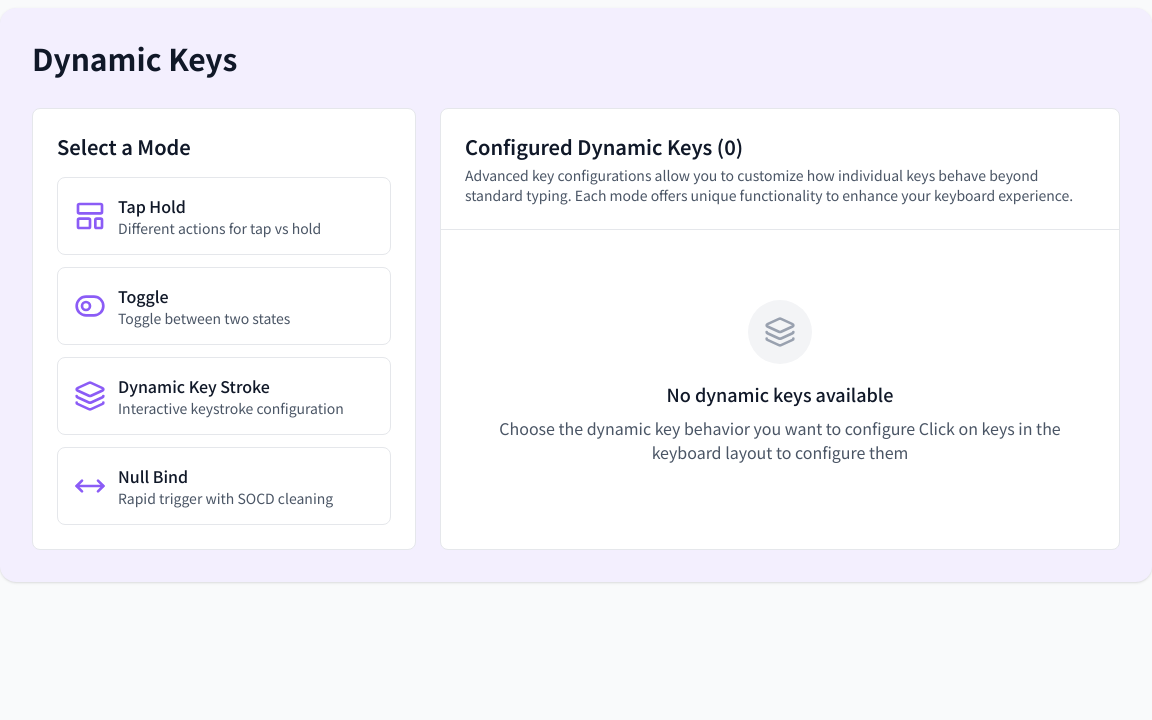
Test case: Tap-hold editor › asks for a key until one is selected
Click the button "Tap Hold Different actions for tap vs hold" at (224, 216), box [57,177,391,255]
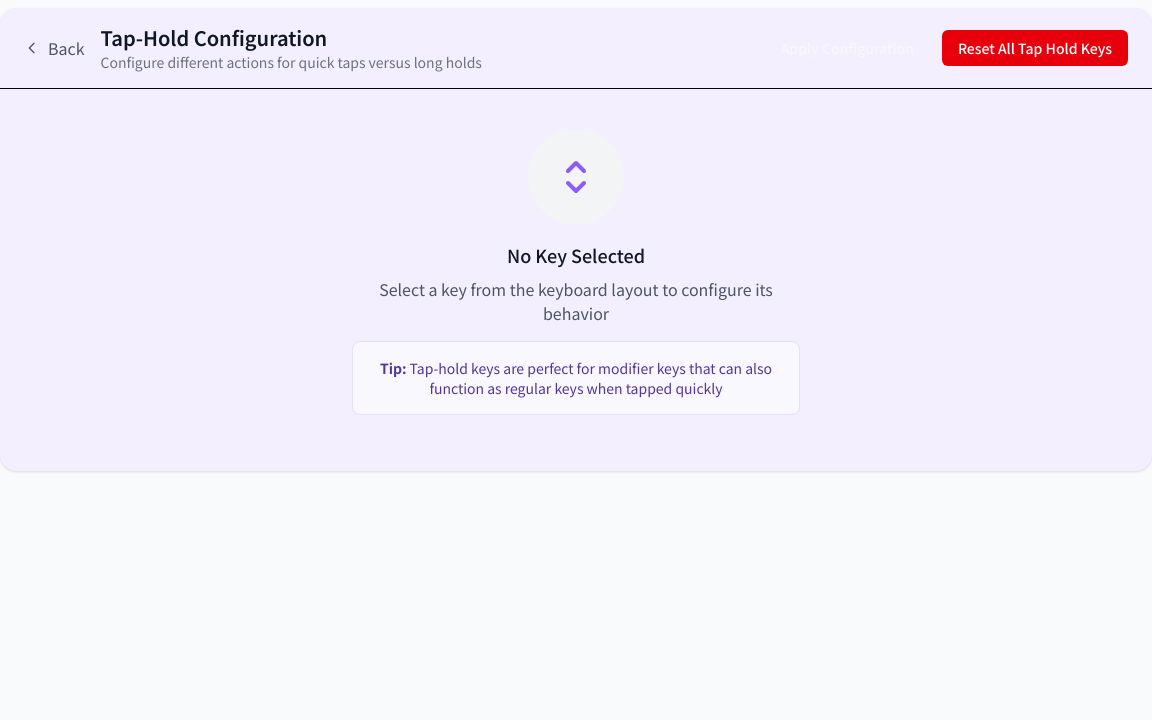
Expected: the heading "Tap-Hold Configuration" is shown, [100,23,327,52]
Expected: the heading "No Key Selected" is shown, [507,242,645,268]
Expected: the text "Tap-hold keys are perfect for modifier keys" is shown, [406,358,772,398]
